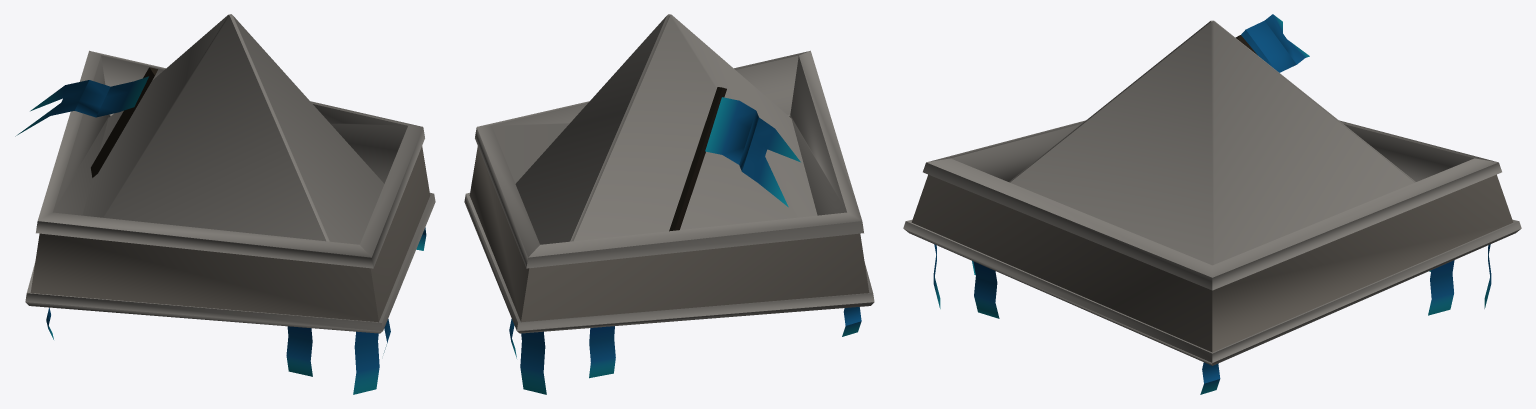
The model's file is hat_paper.glb.
3 views of the same model, side by side, from view 1: azimuth 30°, elevation 25°; view 2: azimuth 150°, elevation 25°; view 3: azimuth 270°, elevation 25° (orthographic).
Visible parts, largest first — view 1: hat_paper; view 2: hat_paper; view 3: hat_paper.
Boxes of the visible parts, box(x1,y1,x2,y2) form: hat_paper: box(15, 14, 435, 394); hat_paper: box(464, 14, 874, 394); hat_paper: box(903, 14, 1521, 394).
Size of the model in its own units: 0.3925 by 0.255 by 0.5059.
